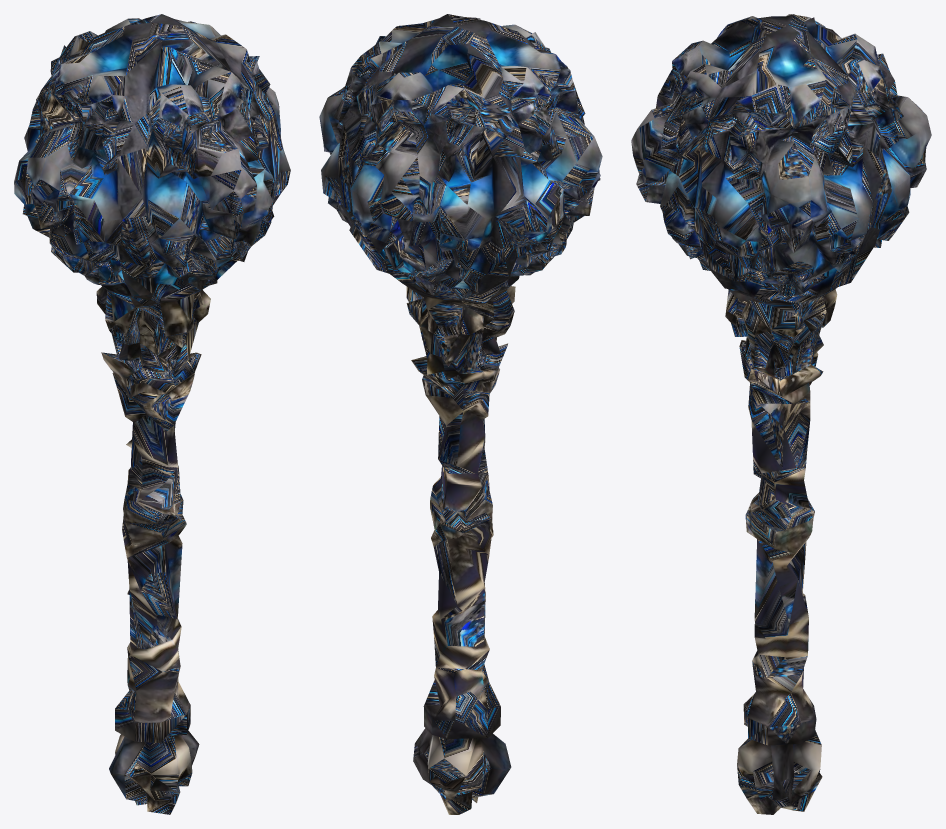
File: 1499_hammer.glb
3 renders of one model, left to right at view 1: azimuth 30°, elevation 25°; view 2: azimuth 150°, elevation 25°; view 3: azimuth 270°, elevation 25°, orthographic.
Parts seen in each view (by area): view 1: Model; view 2: Model; view 3: Model.
Part boxes in pixels (x1,y1,x2,y2): Model: (14,14,290,814); Model: (319,14,602,814); Model: (631,14,931,814).
Bounding box in the file's own units: 0.3491 × 1 × 0.346.
Materials: 1 (1 with a texture image).
